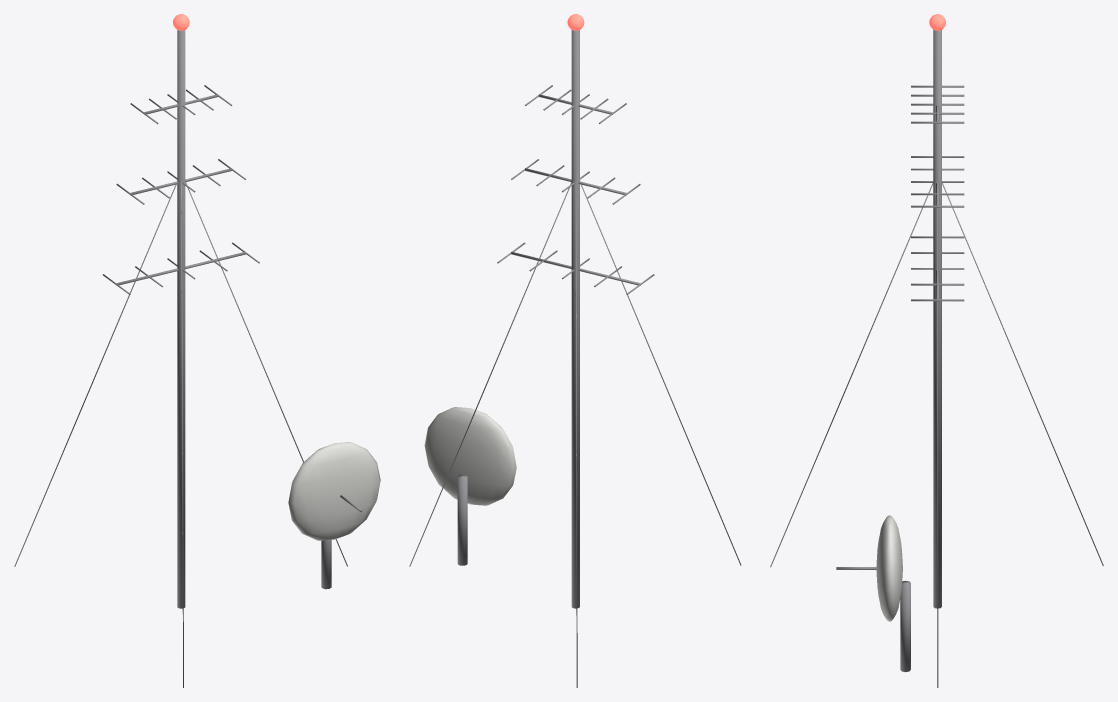
The model's file is antenna.glb.
3 renders of one model, left to right at view 1: azimuth 30°, elevation 25°; view 2: azimuth 150°, elevation 25°; view 3: azimuth 270°, elevation 25°, orthographic.
Visible parts, largest first — view 1: antenna; view 2: antenna; view 3: antenna.
Boxes of the visible parts, <box> form: antenna: <box>14,14,380,687</box>; antenna: <box>409,14,741,687</box>; antenna: <box>770,14,1103,687</box>.
Bounding box in the file's own units: 2.81 × 6.13 × 3.13.
